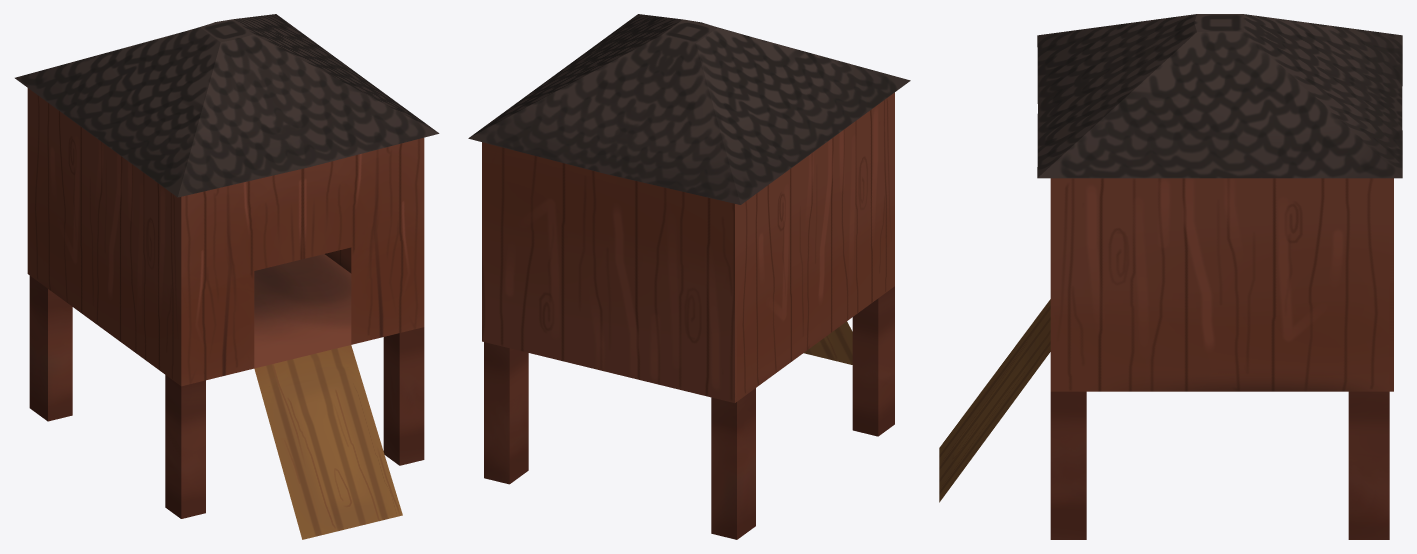
Rendered from ChickenCoop.fbx.
The picture shows the model from 3 angles, left to right: view 1: azimuth 30°, elevation 25°; view 2: azimuth 150°, elevation 25°; view 3: azimuth 270°, elevation 25°; orthographic projection. The views are drawn at different scales.
Visible parts, largest first — view 1: ChickenCoop; view 2: ChickenCoop; view 3: ChickenCoop.
Boxes of the visible parts, x1,y1,x2,y2 form: ChickenCoop: (15, 14, 439, 539); ChickenCoop: (468, 14, 910, 539); ChickenCoop: (939, 14, 1402, 539).
Size of the model in its own units: 208 by 307 by 285.
1 material, 1 textured.
